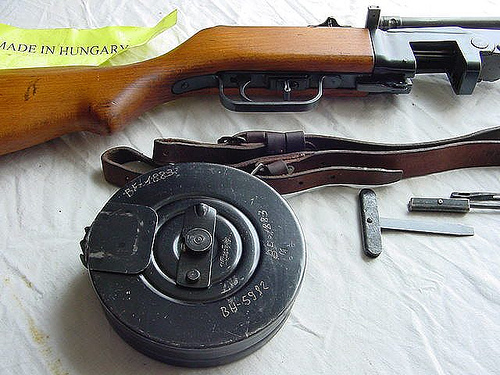rifle: (2, 10, 499, 184)
